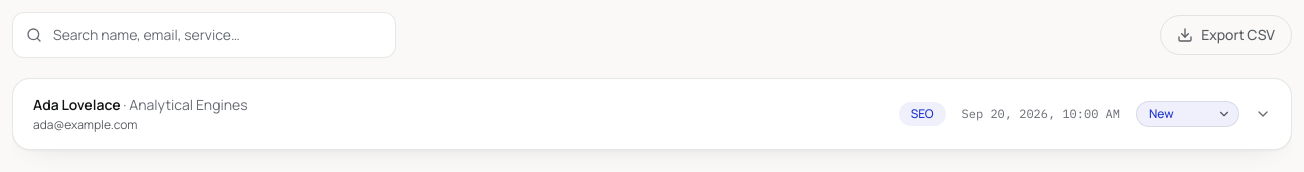
Test: <LeadsTable /> › tells the user when a search matches nothing
In the search field named "search leads": (204,35) [12, 12, 396, 58], type "nobody-here"
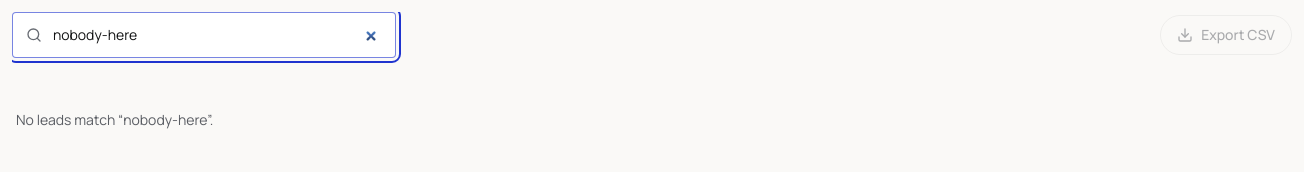
Check: the text "No leads match “nobody-here”." is shown, box [16, 110, 213, 129]
